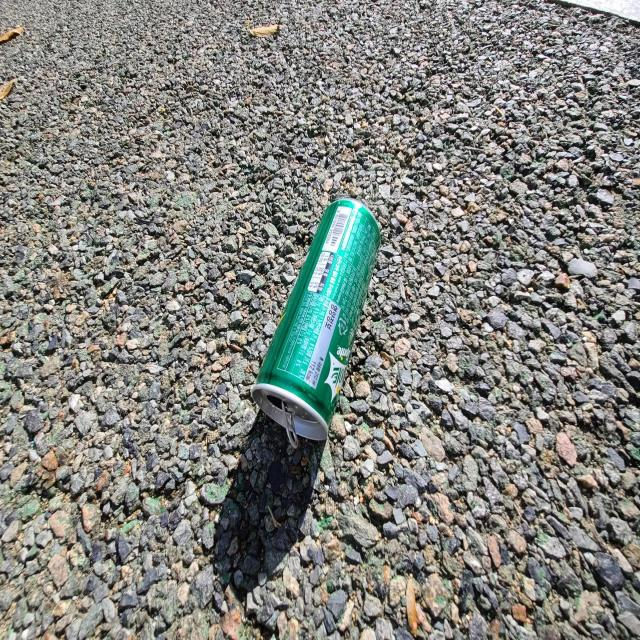can: (252, 198, 381, 448)
